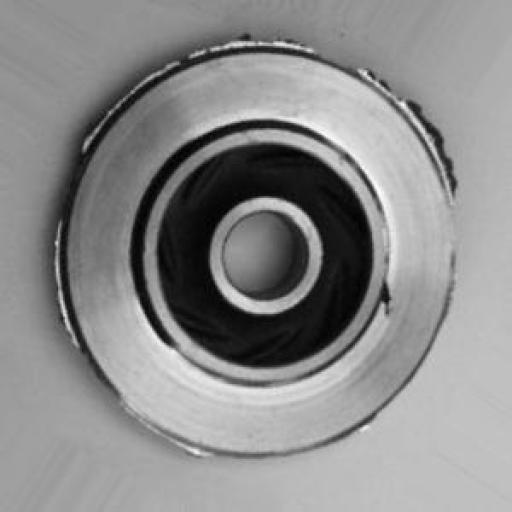defect: (35, 26, 478, 470)
